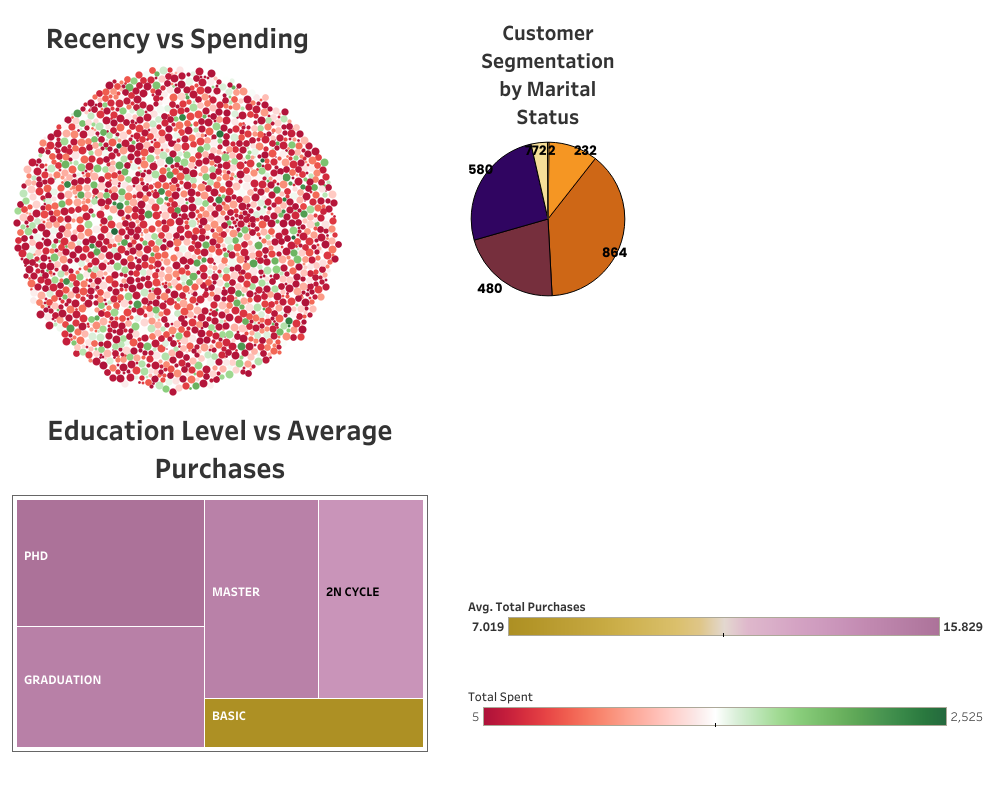

What the dashboard file says about the page in this screenshot:
{"tool":"tableau","page":{"name":"Behavioral Analysis Dashboard","canvas":[1000,800],"ordinal":1},"visuals":[{"type":"worksheet","title":"Sheet 8","mark":"Circle","box":[8,8,548,392]},{"type":"worksheet","title":"Sheet 9","mark":"Pie","box":[556,8,436,449]},{"type":"worksheet","title":"Sheet 6","mark":"Automatic","box":[8,400,548,392]},{"type":"blank","box":[556,457,436,132]},{"type":"legend","title":"Sheet 6","param":"[federated.0zwvmky1m0csmx10w9z831ql300v].[avg:TOTAL_PURCHASES:qk]","box":[556,589,436,68]},{"type":"legend","title":"Sheet 6","param":"[federated.0zwvmky1m0csmx10w9z831ql300v].[avg:TOTAL_PURCHASES:qk]","box":[556,657,436,22]},{"type":"legend","title":"Sheet 8","param":"[federated.0zwvmky1m0csmx10w9z831ql300v].[sum:TOTAL_SPENT:qk]","box":[556,679,436,68]},{"type":"legend","title":"Sheet 8","param":"[federated.0zwvmky1m0csmx10w9z831ql300v].[sum:RECENCY:qk]","box":[556,747,436,22]}]}

Visuals, with their boxes in screenshot pixels (x1, y1, x2, y2), scaled from the page's 1000x800 canvas onto the 999x799 screenshot:
"Sheet 8" worksheet (Circle marks): <region>8, 8, 555, 400</region>
"Sheet 9" worksheet (Pie marks): <region>555, 8, 991, 456</region>
"Sheet 6" worksheet: <region>8, 400, 555, 791</region>
blank: <region>555, 456, 991, 588</region>
"Sheet 6" legend: <region>555, 588, 991, 656</region>
"Sheet 6" legend: <region>555, 656, 991, 678</region>
"Sheet 8" legend: <region>555, 678, 991, 746</region>
"Sheet 8" legend: <region>555, 746, 991, 768</region>
